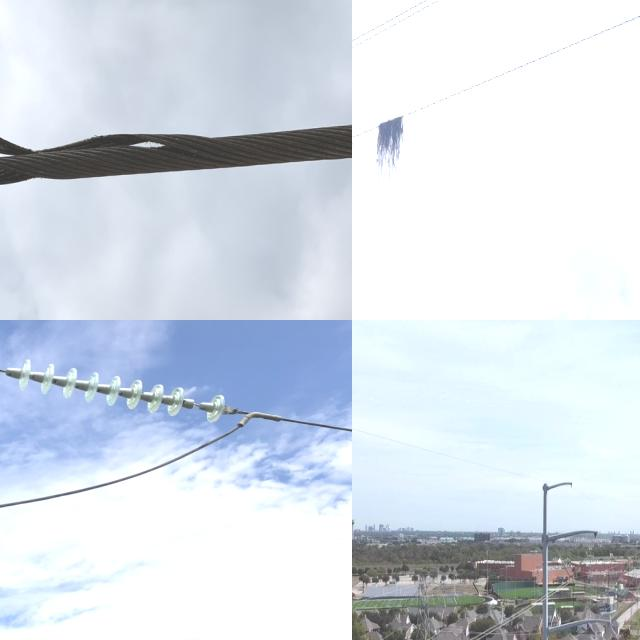杆塔: (402, 562, 453, 640)
植被遮挡: (373, 107, 407, 244)
正常电缆: (0, 416, 270, 519), (255, 405, 352, 441)
正常绝缘子: (0, 348, 251, 440), (569, 542, 592, 581), (553, 543, 572, 579)
电缆破损: (0, 96, 233, 198)
绝缘子破损: (189, 396, 205, 412)
